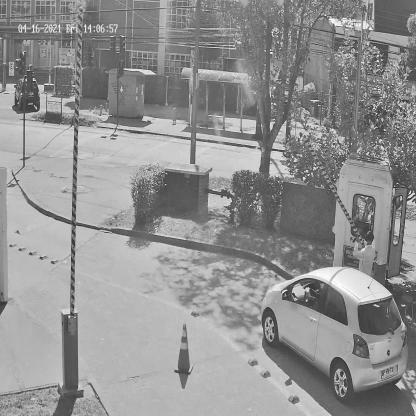Patente: (381, 364, 395, 383)
